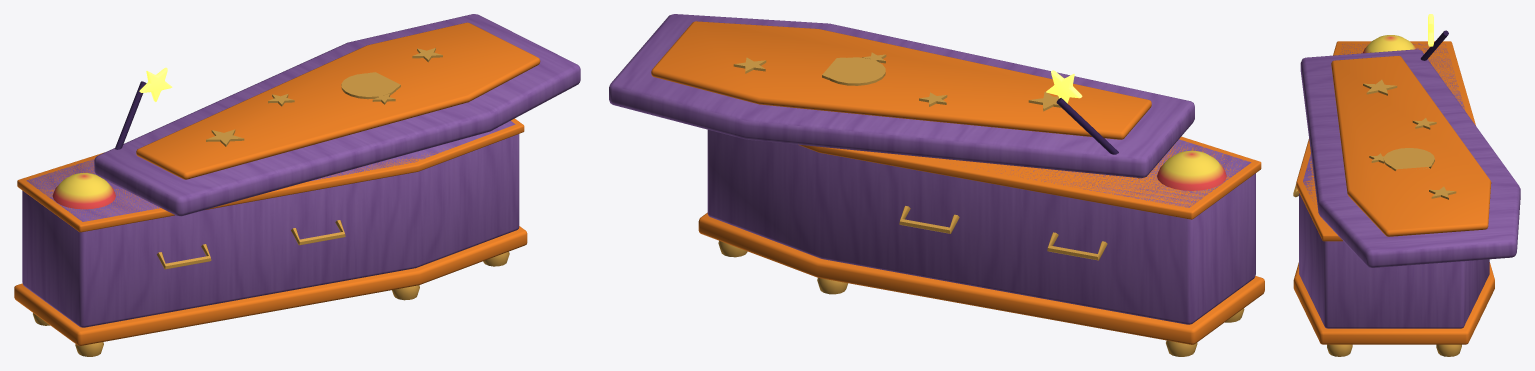
Rendered from manor_toychest.glb.
The picture shows the model from 3 angles, left to right: view 1: azimuth 30°, elevation 25°; view 2: azimuth 150°, elevation 25°; view 3: azimuth 270°, elevation 25°; orthographic projection. The views are drawn at different scales.
Parts seen in each view (by area): view 1: Toychest; view 2: Toychest; view 3: Toychest.
Part boxes in pixels (left/top/right/bottom): Toychest: left=14, top=14, right=580, bottom=356; Toychest: left=609, top=14, right=1264, bottom=356; Toychest: left=1293, top=14, right=1520, bottom=356.
Bounding box in the file's own units: 1.5 × 0.6206 × 0.6206.
6 materials, 1 textured.
